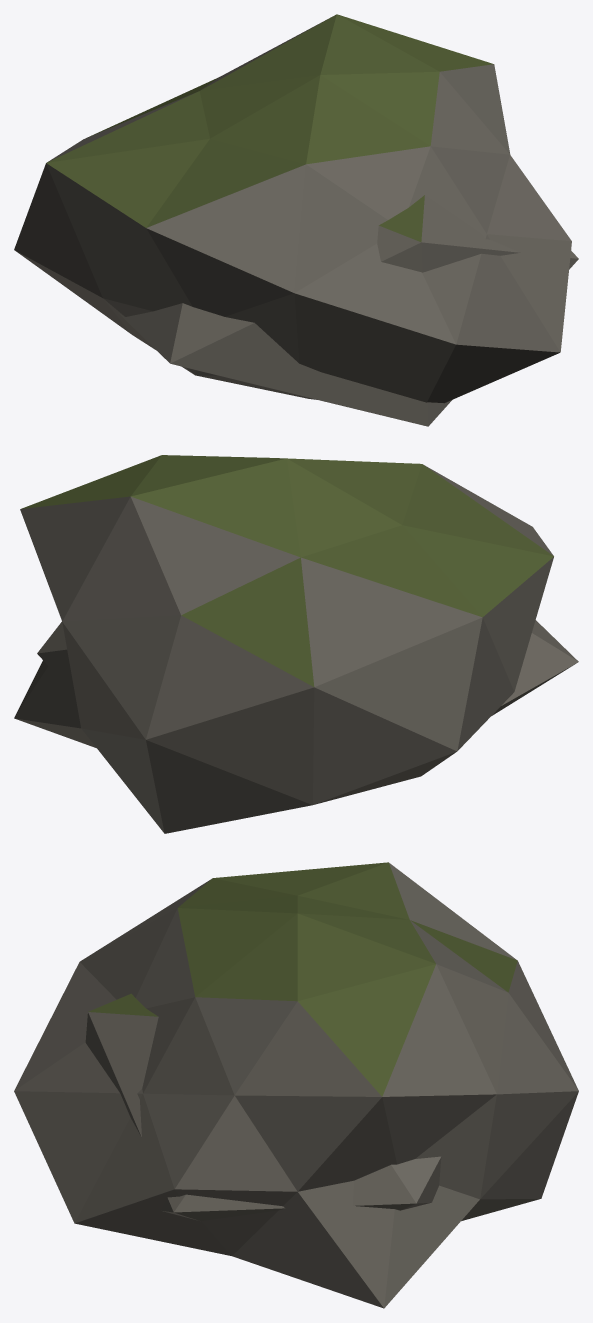
File: rock-a.glb
The picture shows the model from 3 angles, top to bottom: view 1: azimuth 30°, elevation 25°; view 2: azimuth 150°, elevation 25°; view 3: azimuth 270°, elevation 25°; orthographic projection. The views are drawn at different scales.
Parts seen in each view (by area): view 1: lod0_stone, lod1_stone; view 2: lod0_stone, lod1_stone; view 3: lod0_stone, lod1_stone.
Part boxes in pixels (x1=…): lod0_stone: x1=14, y1=14, x2=571, y2=403; lod1_stone: x1=118, y1=195, x2=578, y2=426; lod0_stone: x1=14, y1=455, x2=553, y2=833; lod1_stone: x1=37, y1=620, x2=578, y2=715; lod0_stone: x1=14, y1=862, x2=578, y2=1308; lod1_stone: x1=85, y1=993, x2=441, y2=1221.
Bounding box in the file's own units: 1.63 × 0.9359 × 1.68.
